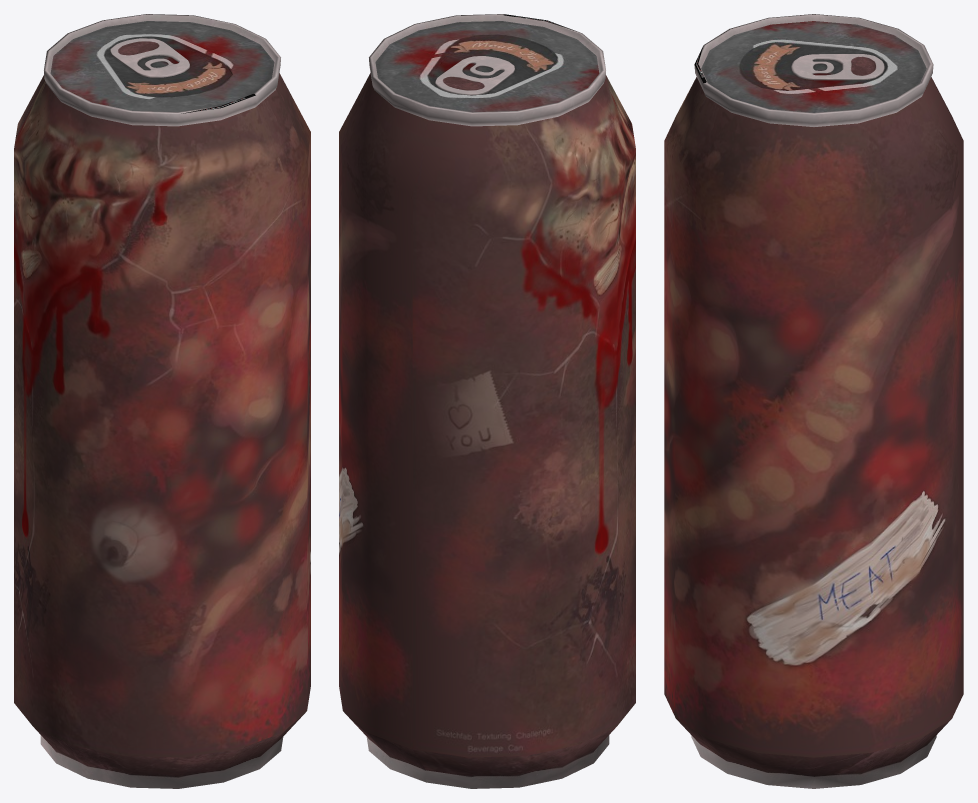
The model's file is healthBuff.glb.
The picture shows the model from 3 angles, left to right: view 1: azimuth 30°, elevation 25°; view 2: azimuth 150°, elevation 25°; view 3: azimuth 270°, elevation 25°; orthographic projection.
Visible parts, largest first — view 1: hpPotion; view 2: hpPotion; view 3: hpPotion.
Boxes of the visible parts, <box> form: hpPotion: <box>14,14,310,788</box>; hpPotion: <box>339,14,635,788</box>; hpPotion: <box>664,14,963,788</box>.
Size of what is drawn, in the model's own units: 0.1052 by 0.2612 by 0.1052.
Materials: 1 (1 with a texture image).
